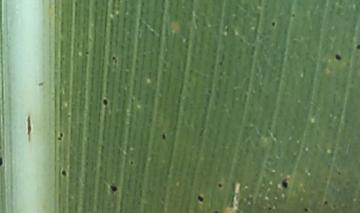tarspot: (23, 113, 33, 143), (107, 181, 120, 197), (194, 191, 207, 206), (157, 129, 171, 142), (280, 176, 290, 193), (58, 165, 69, 180), (54, 129, 65, 143), (100, 97, 111, 110), (331, 52, 344, 62), (125, 159, 139, 168), (106, 53, 119, 62), (300, 204, 312, 213), (216, 180, 225, 190), (320, 197, 329, 206), (269, 19, 277, 29), (211, 206, 221, 213), (354, 42, 360, 53), (1, 156, 5, 169)
